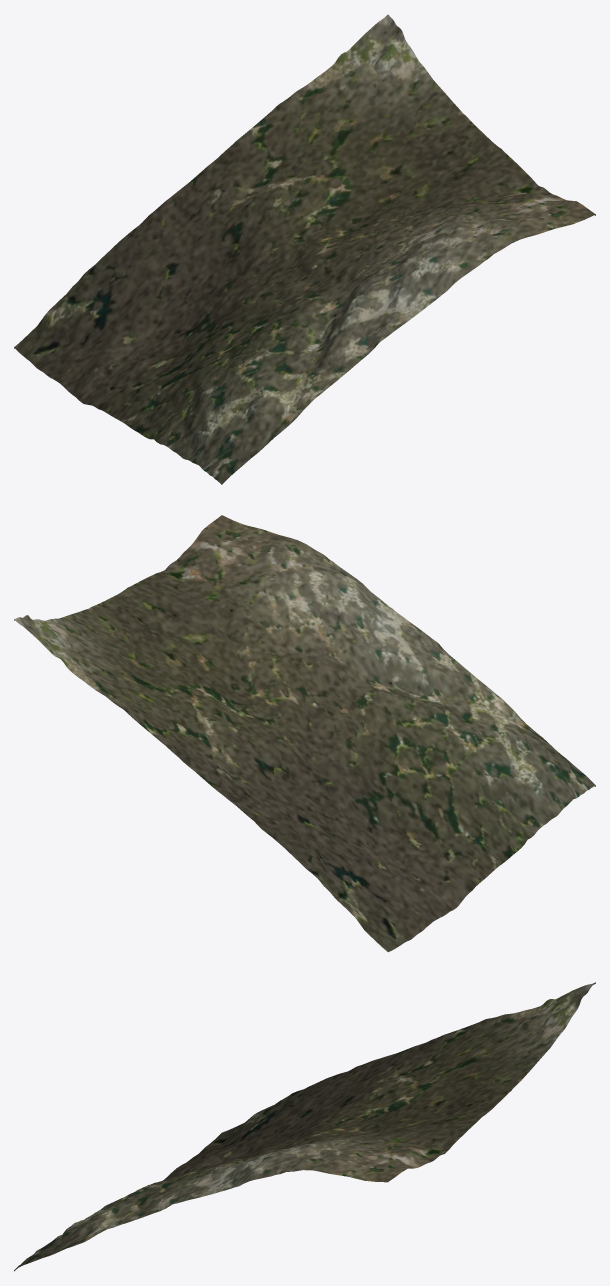
3 renders of one model, top to bottom at view 1: azimuth 30°, elevation 25°; view 2: azimuth 150°, elevation 25°; view 3: azimuth 330°, elevation 25°, orthographic.
Size of the model in its own units: 250 by 159 by 241.
1 material, 1 textured.
